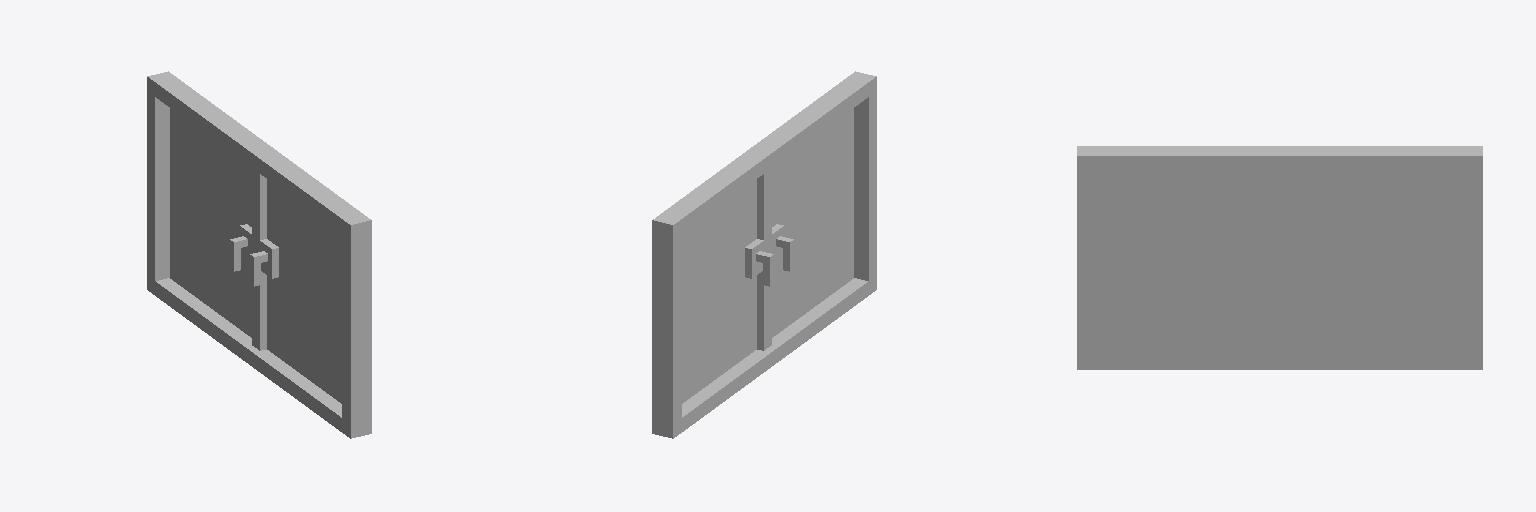
The model's file is window2.obj.
3 views of the same model, side by side, from view 1: azimuth 30°, elevation 25°; view 2: azimuth 150°, elevation 25°; view 3: azimuth 270°, elevation 25° (orthographic).
Visible parts, largest first — view 1: object 1; view 2: object 1; view 3: object 1.
Part boxes in pixels (x1,y1,x2,y2): object 1: (147, 71, 371, 438); object 1: (652, 71, 876, 438); object 1: (1077, 146, 1482, 369).
Size of the model in its own units: 0.4 by 2.9 by 5.